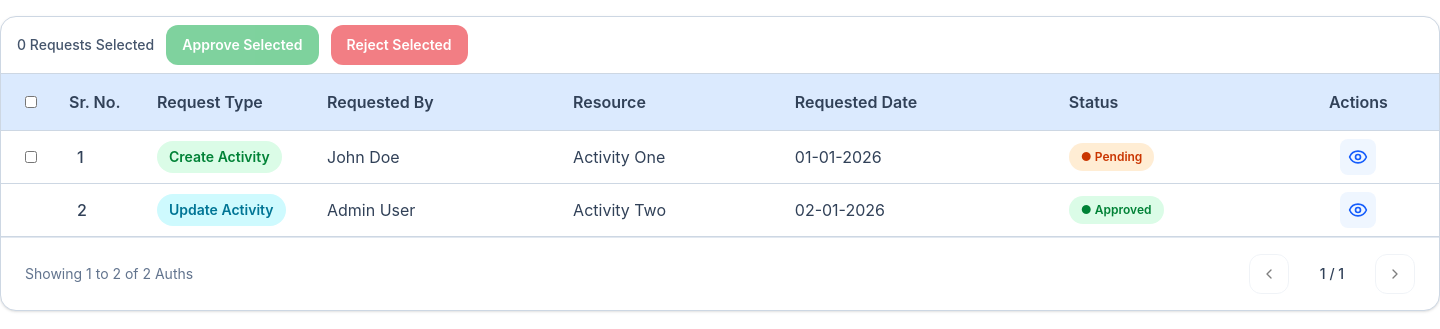
Test: AuthorizationTable › selects pending row
Click the checkbox in the row of "Create Activity".
click(31, 157)  # box 25,151 -> 37,163
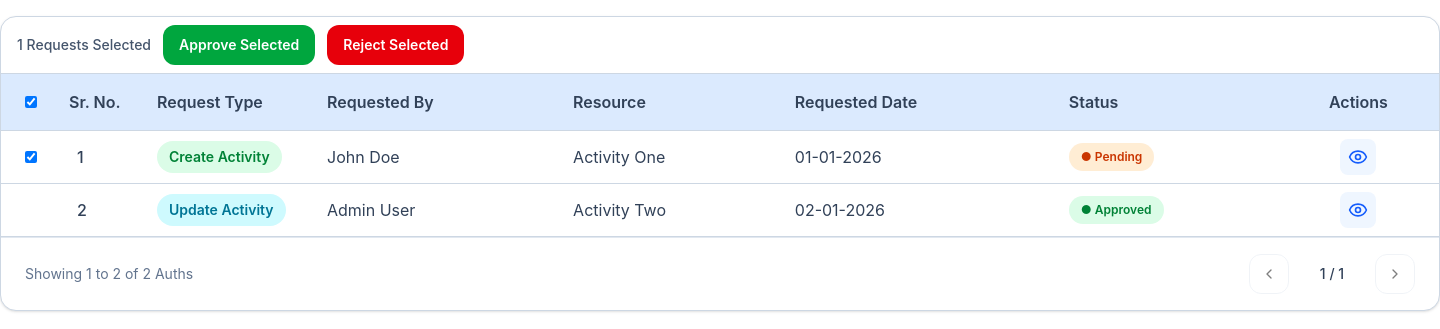
Expected: the text "1 Requests Selected" is shown, 17,35 -> 151,55
